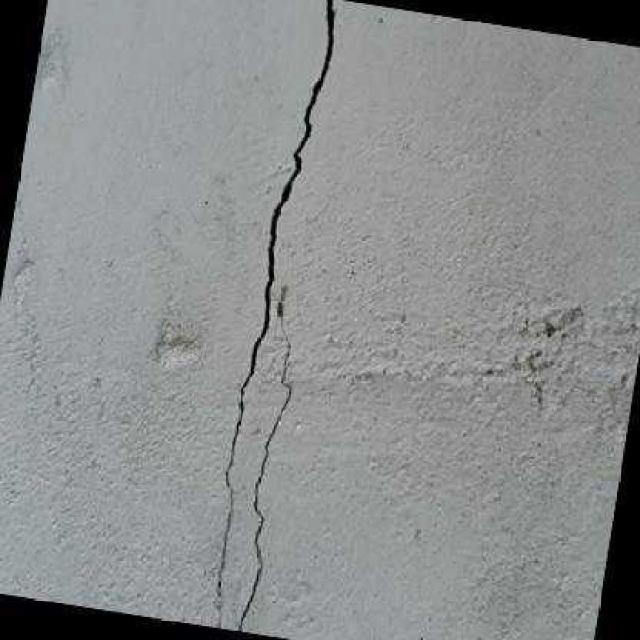D00: (214, 0, 337, 617), (236, 312, 292, 632)
